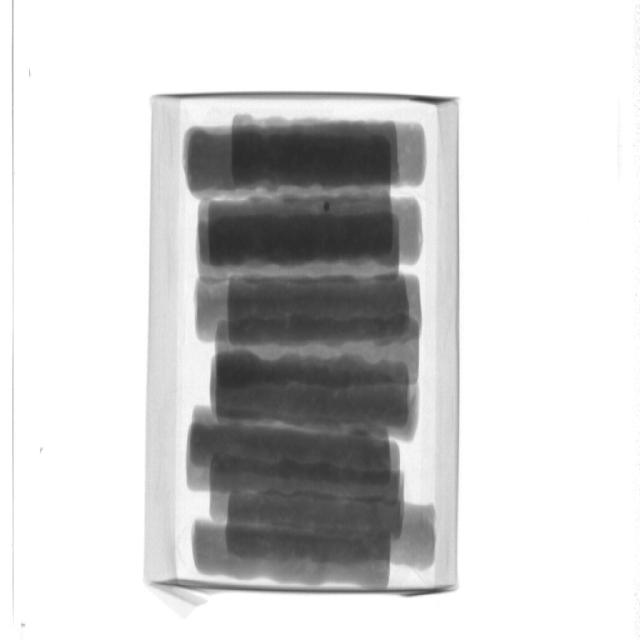ym: (324, 203, 331, 213)
